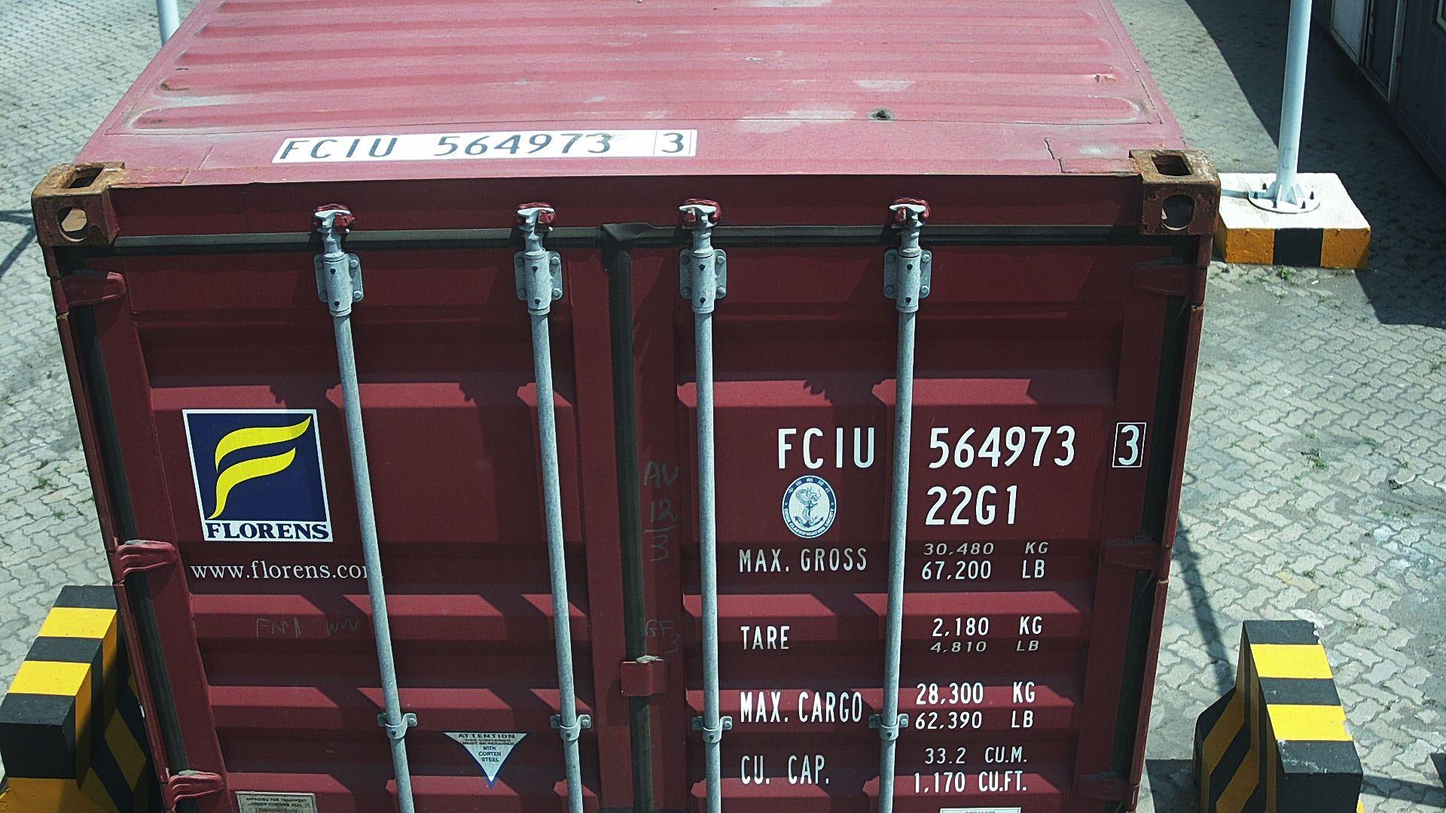container-numbers: (771, 419, 1152, 474), (267, 126, 703, 163), (922, 482, 1022, 528)
